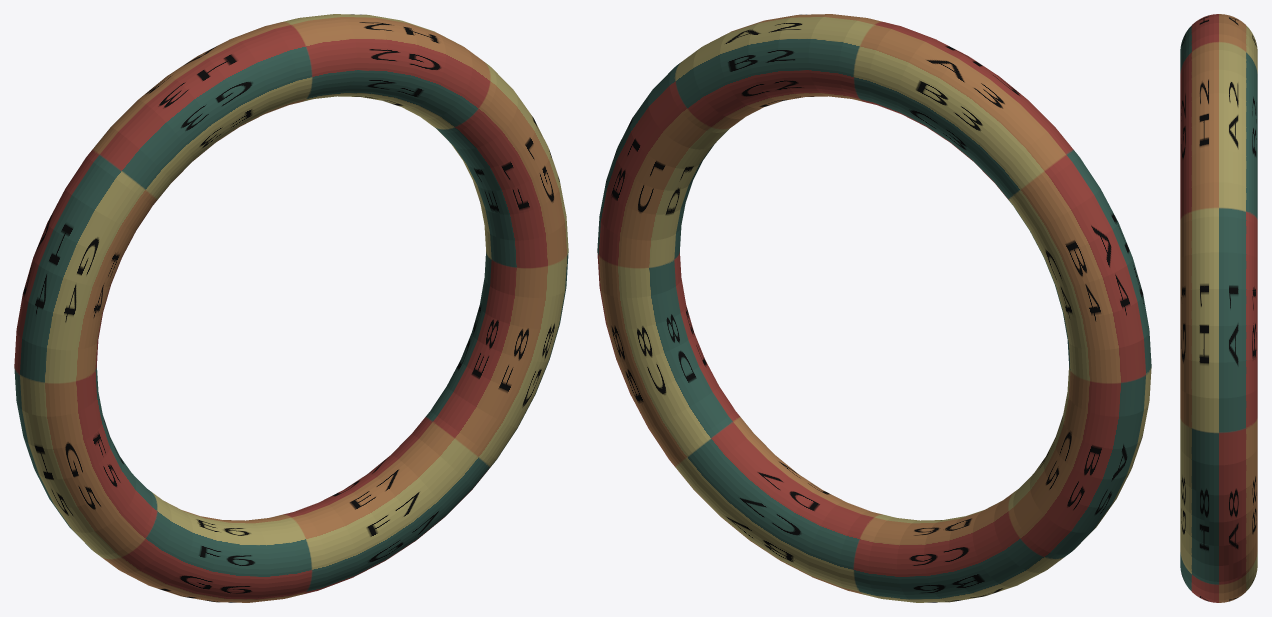
Rendered from texture_torus_R18_r5.glb.
3 renders of one model, left to right at view 1: azimuth 30°, elevation 25°; view 2: azimuth 150°, elevation 25°; view 3: azimuth 270°, elevation 25°, orthographic. The views are drawn at different scales.
Visible parts, largest first — view 1: world; view 2: world; view 3: world.
Part boxes in pixels (<box>): world: <box>14,14,568,602</box>; world: <box>597,14,1151,602</box>; world: <box>1180,14,1257,602</box>.
Bounding box in the file's own units: 25.33 × 25.28 × 3.33.
Materials: 1 (1 with a texture image).
